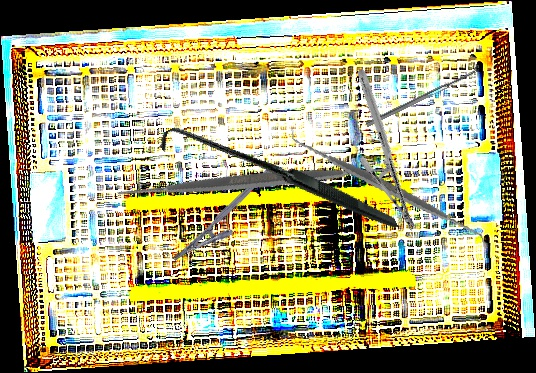Hook Surgical: (155, 57, 399, 306)
Needle Holder: (302, 67, 471, 233), (171, 164, 288, 276)
Spatula Surgical: (106, 31, 407, 332), (290, 91, 487, 286), (363, 62, 481, 128)
